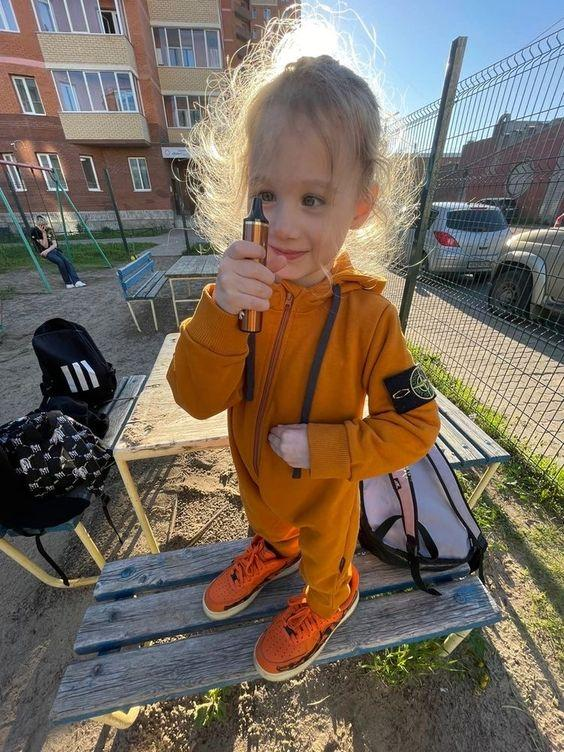Vape: (239, 198, 268, 332)
